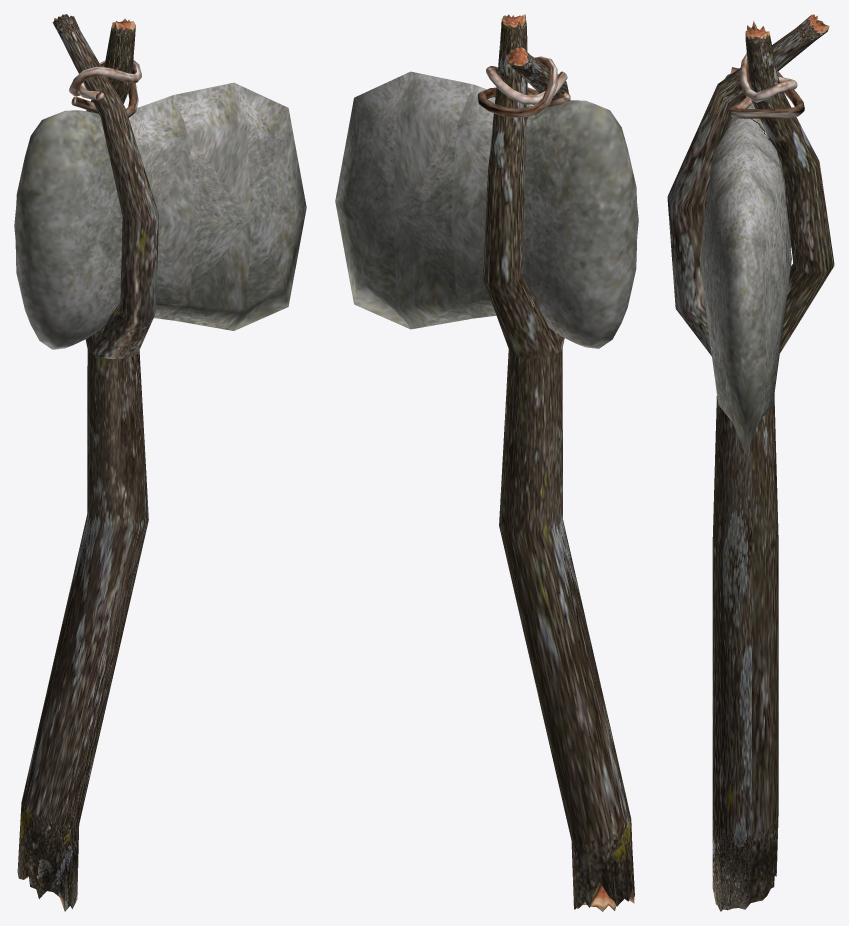
File: axeModel.fbx
3 views of the same model, side by side, from view 1: azimuth 30°, elevation 25°; view 2: azimuth 150°, elevation 25°; view 3: azimuth 270°, elevation 25° (orthographic). The views are drawn at different scales.
Parts seen in each view (by area): view 1: BezierCurve; view 2: BezierCurve; view 3: BezierCurve.
Part boxes in pixels (<box>): BezierCurve: <box>14,14,306,911</box>; BezierCurve: <box>335,14,638,911</box>; BezierCurve: <box>667,14,834,911</box>.
Bounding box in the file's own units: 0.5218 × 1.51 × 0.2473.
